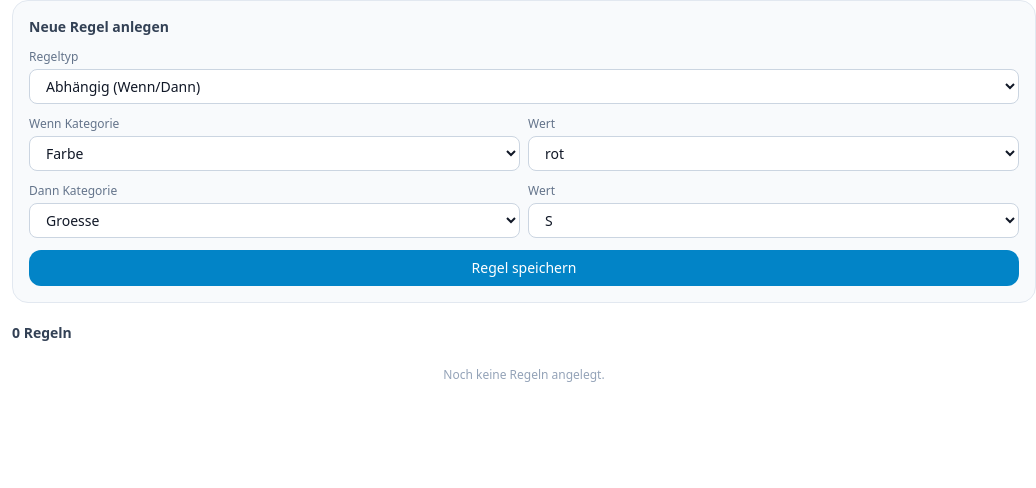
Test: RulesPanel - REQ-3004 Regelwiderspruch-Erkennung › zeigt bei widerspruchsfreier Regel eine Erfolgsmeldung ohne Hervorhebung
Check: the heading "Neue Regel anlegen" is shown, box [29,17,169,36]
Click the button "Regel speichern".
click(524, 268)  # box [29,250,1019,286]
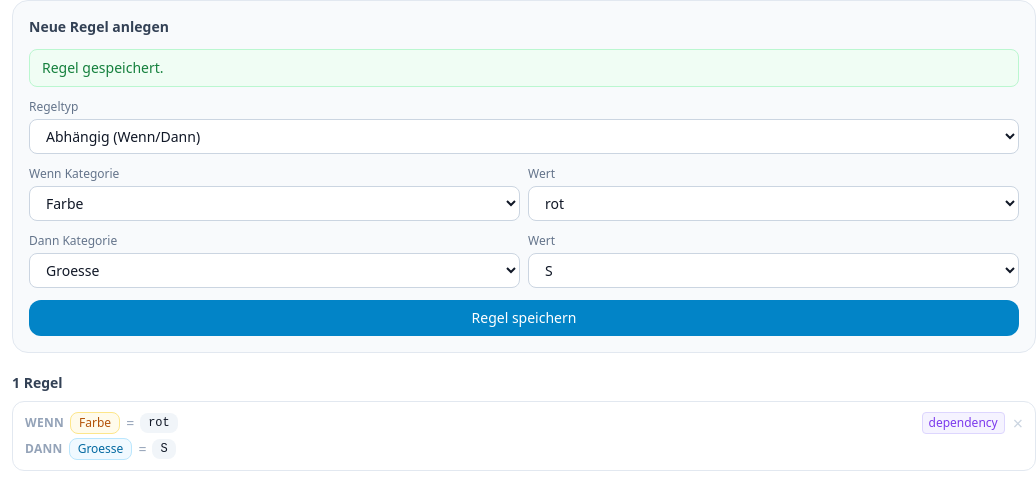
Check: the text "Regel gespeichert." is shown, box [29,49,1019,87]
